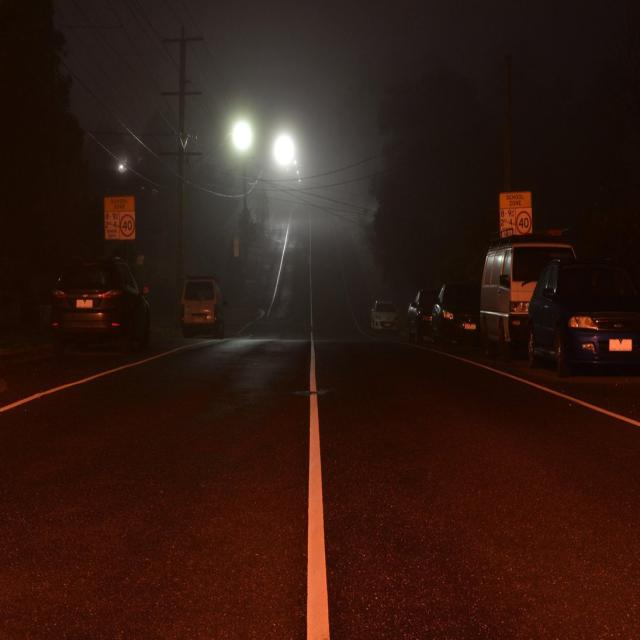car: (481, 216, 578, 379), (44, 256, 158, 376), (538, 253, 640, 384), (167, 254, 254, 366), (434, 274, 492, 385), (403, 269, 445, 346), (372, 279, 400, 342)
